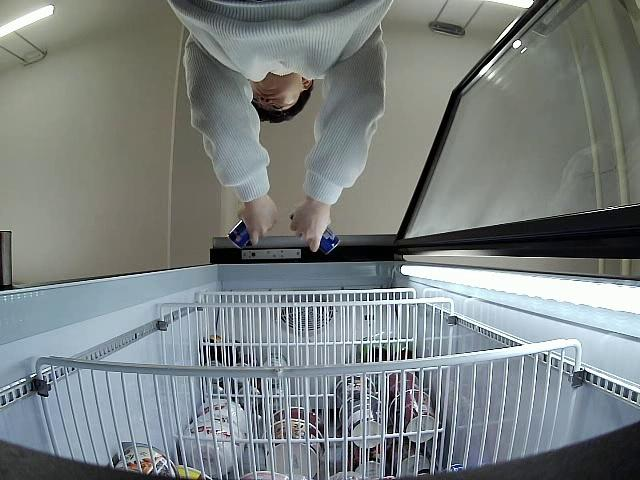00_hand: (238, 194, 279, 247), (293, 199, 331, 250)
16_hot6: (289, 209, 341, 256), (224, 214, 259, 251)
